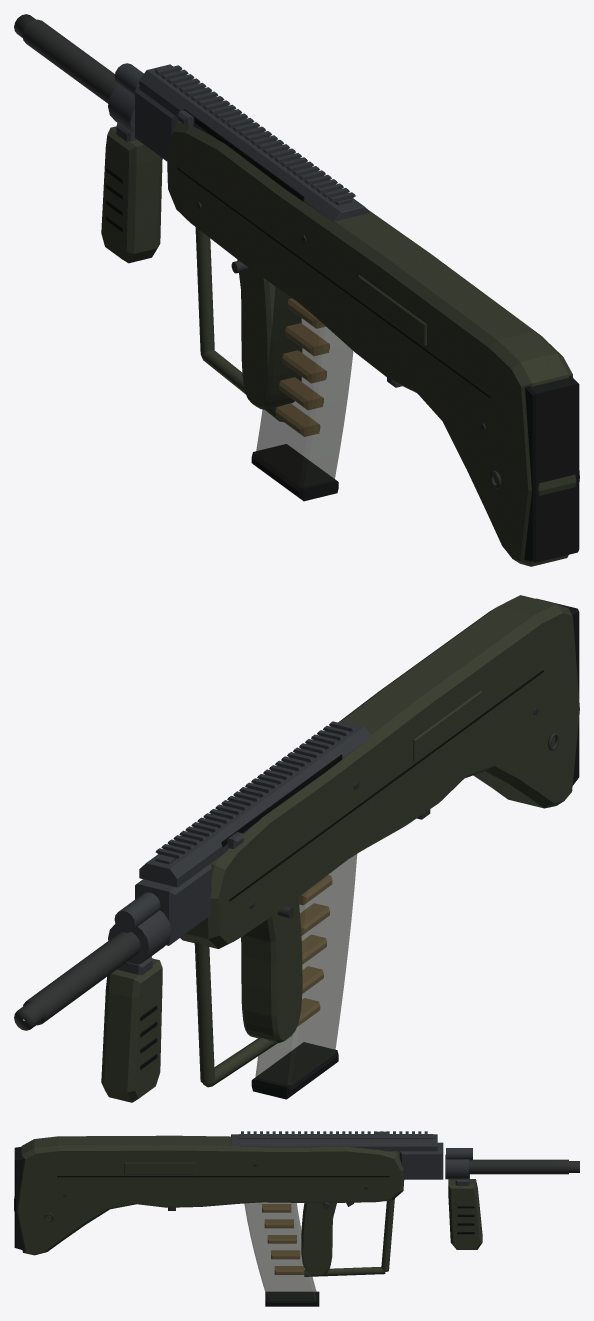
Rendered from weapon-37-QU8MulBW.glb.
3 views of the same model, one above another, from view 1: azimuth 30°, elevation 25°; view 2: azimuth 150°, elevation 25°; view 3: azimuth 270°, elevation 25° (orthographic). The views are drawn at different scales.
Parts seen in each view (by area): view 1: salient_weapon_body, salient_weapon_magazine; view 2: salient_weapon_body, salient_weapon_magazine; view 3: salient_weapon_body, salient_weapon_magazine.
Part boxes in pixels (box(x1,y1,x2,y2)): salient_weapon_body: box(14, 14, 579, 566); salient_weapon_magazine: box(251, 286, 353, 501); salient_weapon_body: box(14, 595, 579, 1102); salient_weapon_magazine: box(251, 854, 357, 1099); salient_weapon_body: box(14, 1131, 579, 1276); salient_weapon_magazine: box(244, 1202, 319, 1306).
Size of the model in its own units: 0.0469 by 0.2343 by 0.7143.
12 materials, 3 textured.
